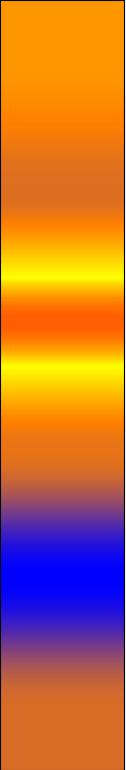Thermal Runaway: (15, 228, 109, 431), (5, 10, 116, 132)
critical: (11, 669, 113, 763), (9, 445, 116, 498), (13, 154, 111, 203)
safe: (10, 509, 111, 660)
